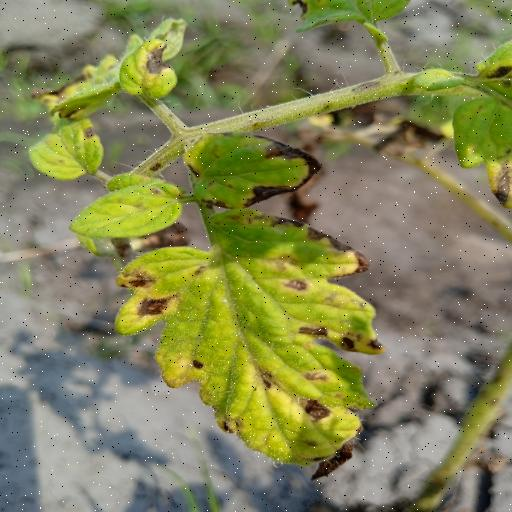Tomato_Brown_Spots: (111, 204, 392, 470)
